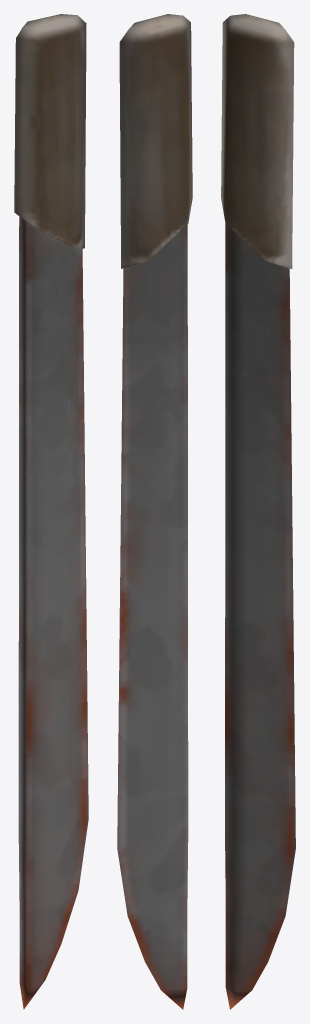
File: LongKnife.fbx
3 renders of one model, left to right at view 1: azimuth 30°, elevation 25°; view 2: azimuth 210°, elevation 25°; view 3: azimuth 330°, elevation 25°, orthographic.
Parts seen in each view (by area): view 1: LongKnife; view 2: LongKnife; view 3: LongKnife.
Part boxes in pixels (x1,y1,x2,y2): LongKnife: (14,14,88,1009); LongKnife: (117,14,192,1009); LongKnife: (221,14,295,1009).
Size of the model in its own units: 0.1109 by 0.0528 by 1.41.
